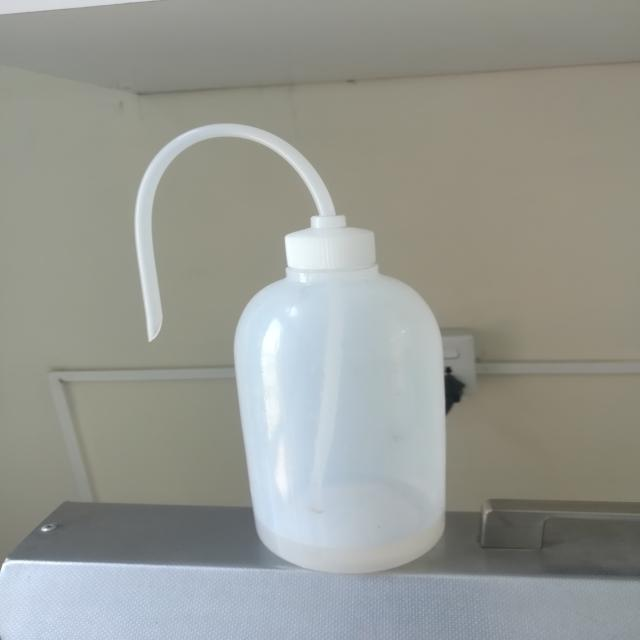Wash_Bottle: (80, 94, 490, 601)
